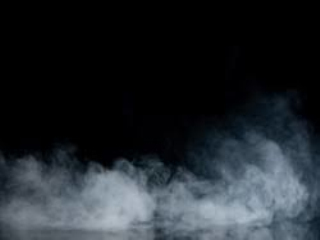smoke: (6, 140, 316, 232)
